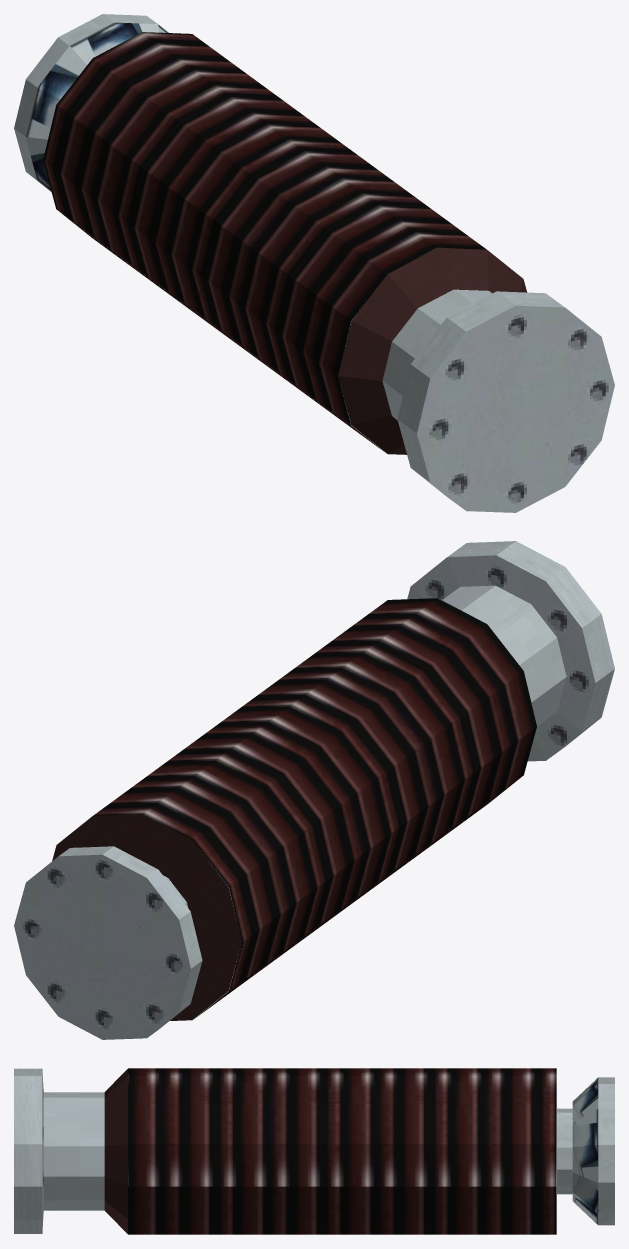
The model's file is xjyz107-geode.glb.
The picture shows the model from 3 angles, top to bottom: view 1: azimuth 30°, elevation 25°; view 2: azimuth 150°, elevation 25°; view 3: azimuth 270°, elevation 25°; orthographic projection. The views are drawn at different scales.
Parts seen in each view (by area): view 1: Node; view 2: Node; view 3: Node.
Boxes of the visible parts, bbox=[...] form: Node: bbox=[14, 14, 614, 512]; Node: bbox=[14, 541, 614, 1039]; Node: bbox=[14, 1068, 614, 1234].
Size of the model in its own units: 0.0679 by 0.0679 by 0.2445.
Materials: 5 (5 with a texture image).
